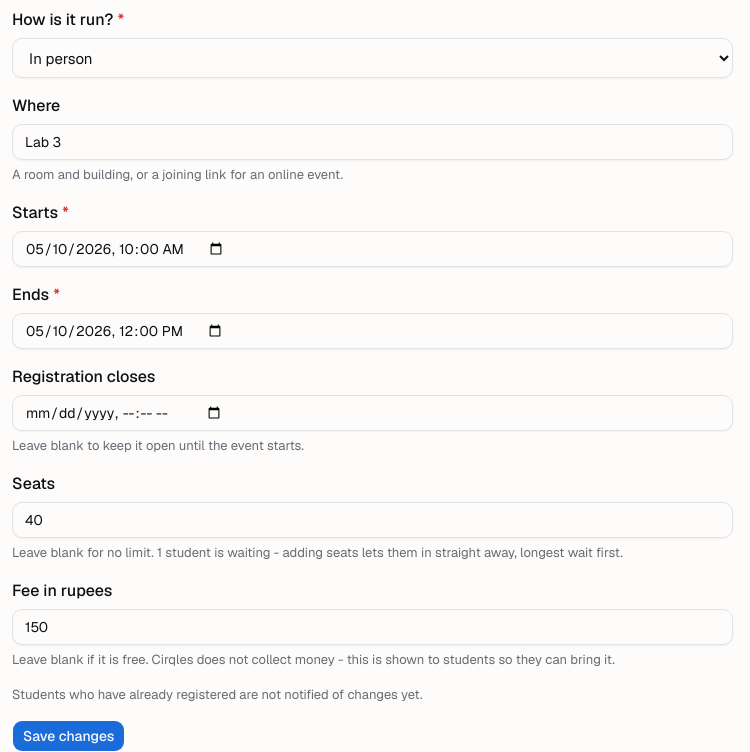
Test: EditEventForm › counts a single promotion in the singular
The width and height of the screenshot is (750, 752).
(page scrolled)
Click the button "Save changes" at (69, 736), box [12, 720, 125, 751]
(page scrolled)
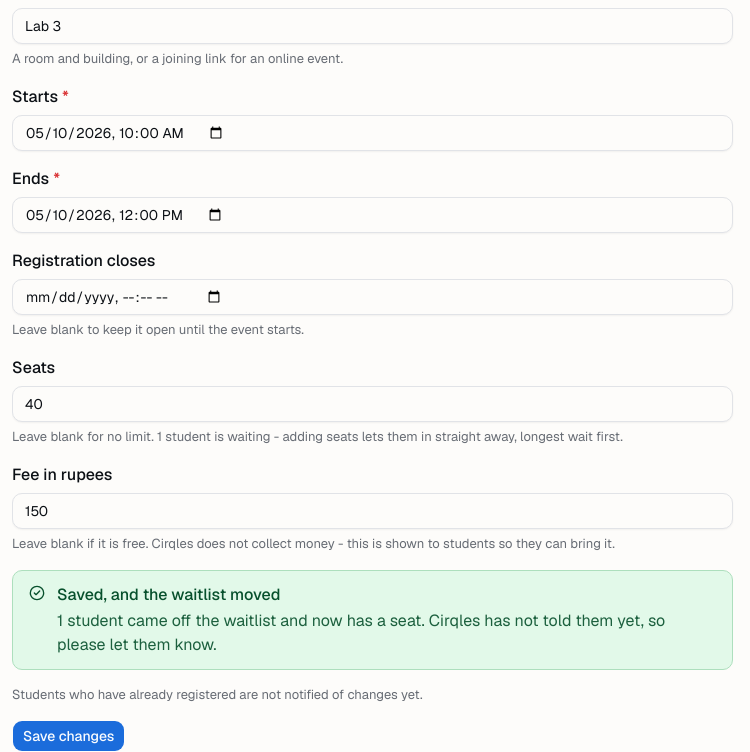
Expected: the text "1 student came off the waitlist" is shown, [57, 610, 425, 630]
